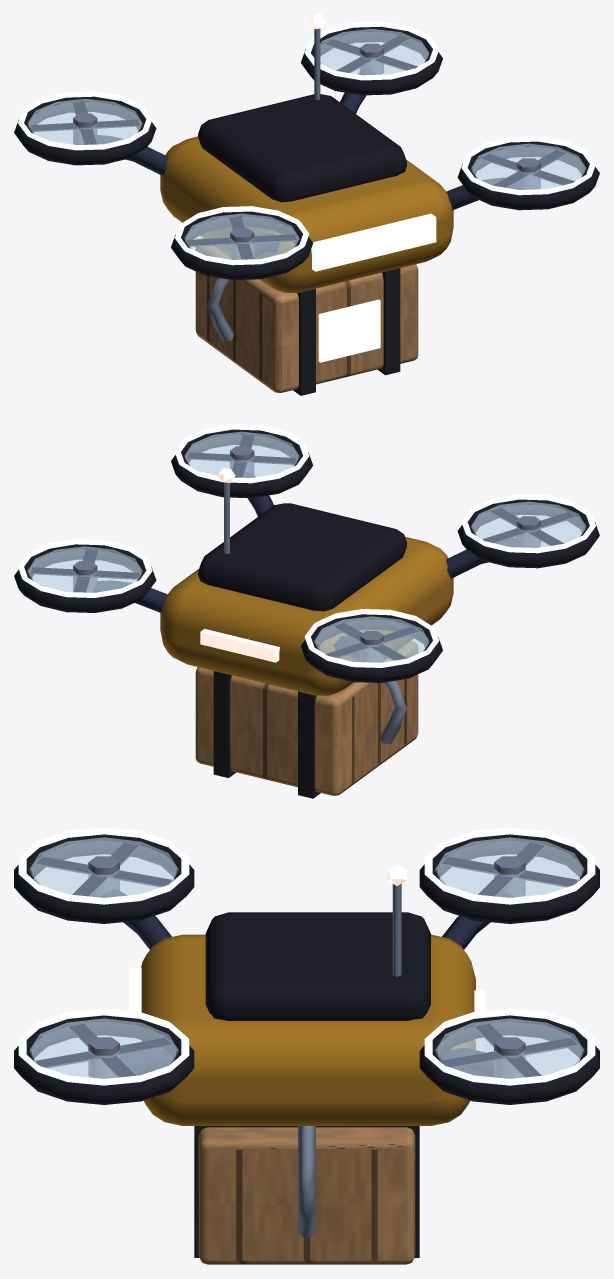
File: drone-carga.glb
The picture shows the model from 3 angles, top to bottom: view 1: azimuth 30°, elevation 25°; view 2: azimuth 150°, elevation 25°; view 3: azimuth 270°, elevation 25°; orthographic projection. The views are drawn at different scales.
Parts seen in each view (by area): view 1: drone-carga; view 2: drone-carga; view 3: drone-carga.
Part boxes in pixels (x1,y1,x2,y2): drone-carga: (14,14,599,395); drone-carga: (14,424,599,798); drone-carga: (14,827,599,1264).
Size of the model in its own units: 2.72 by 1.9 by 2.6.
6 materials, 1 textured.
